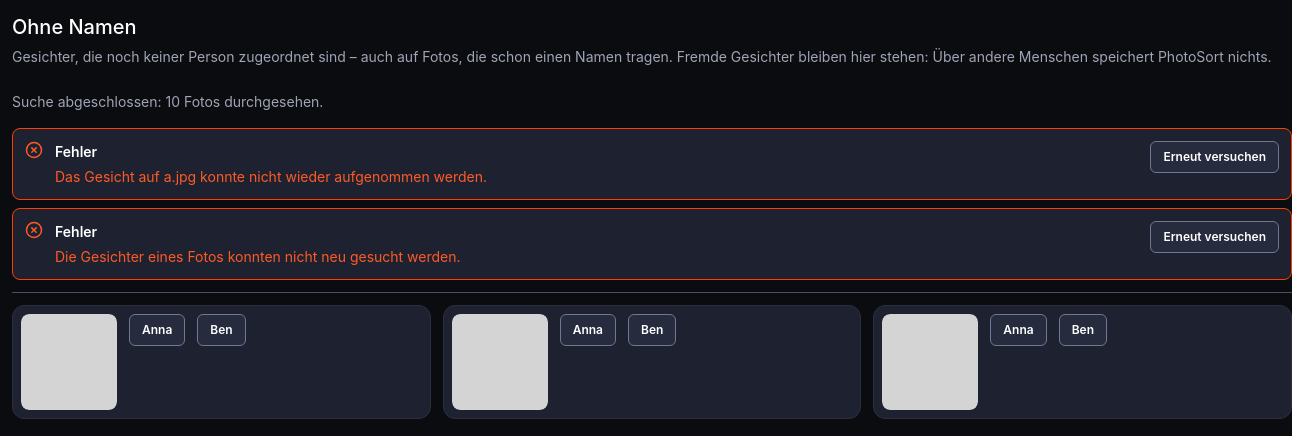
UnnamedFacesGroup - Statusleiste › zeigt je gescheiterter Einzelabfrage einen Alert, mit oder ohne Dateinamen
Click the 1st button "Erneut versuchen" at (1215, 157), box left=1150, top=141, right=1279, bottom=173
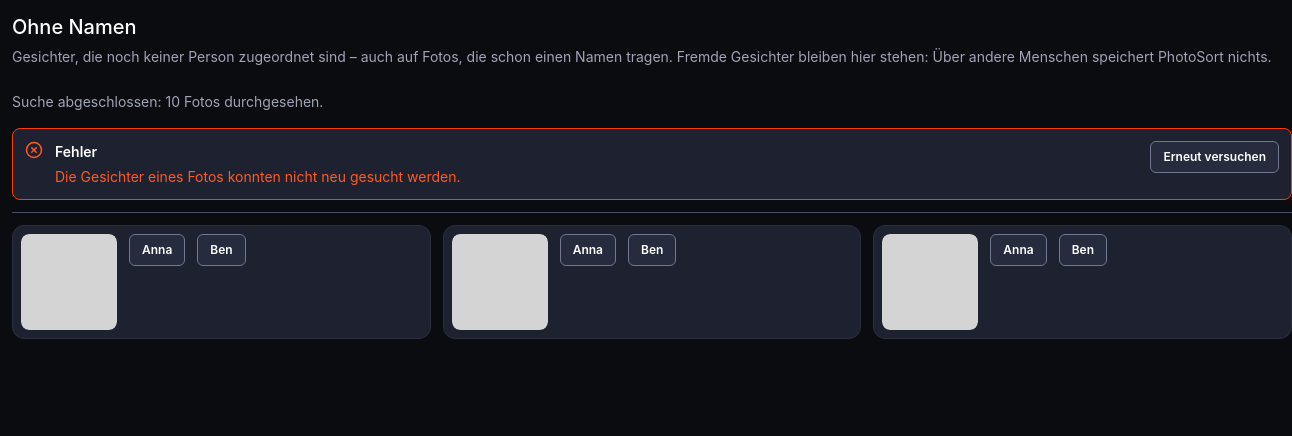
Check: the number of messages is 1, box left=12, top=128, right=1291, bottom=200
